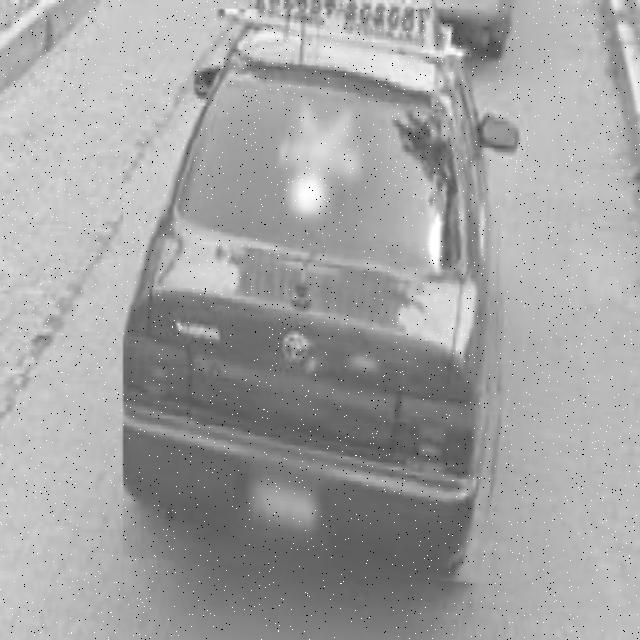car: (124, 10, 506, 585)
